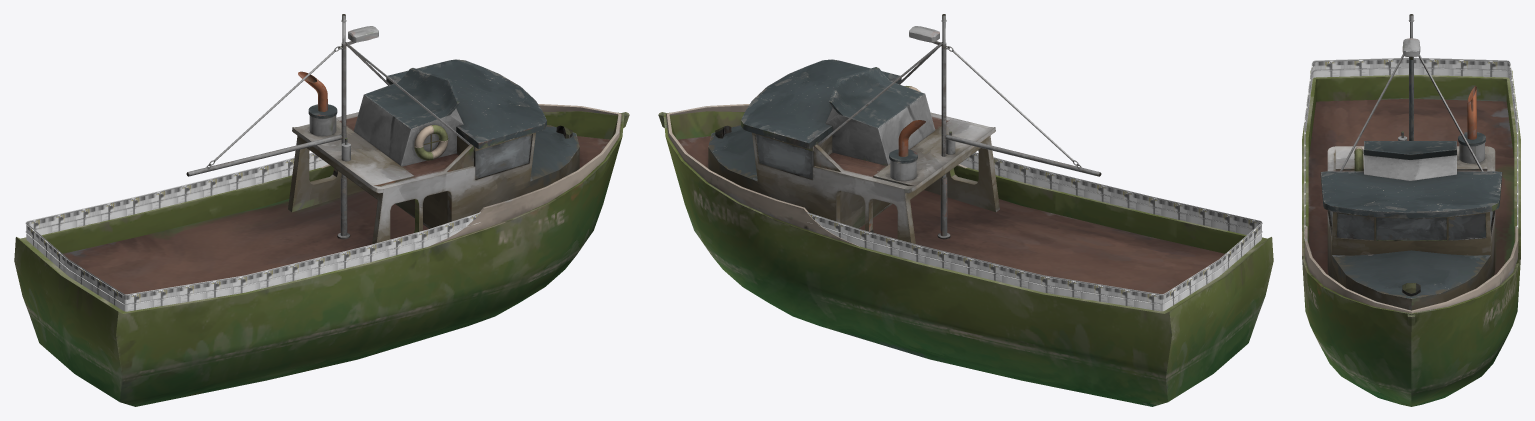
Rendered from BoatM01.fbx.
3 renders of one model, left to right at view 1: azimuth 30°, elevation 25°; view 2: azimuth 150°, elevation 25°; view 3: azimuth 270°, elevation 25°, orthographic.
Parts seen in each view (by area): view 1: BoatM01; view 2: BoatM01; view 3: BoatM01.
Boxes of the visible parts, x1=… form: BoatM01: x1=14, y1=14, x2=629, y2=406; BoatM01: x1=658, y1=14, x2=1273, y2=406; BoatM01: x1=1302, y1=14, x2=1520, y2=406.
Bounding box in the file's own units: 2181 × 1160 × 737.
